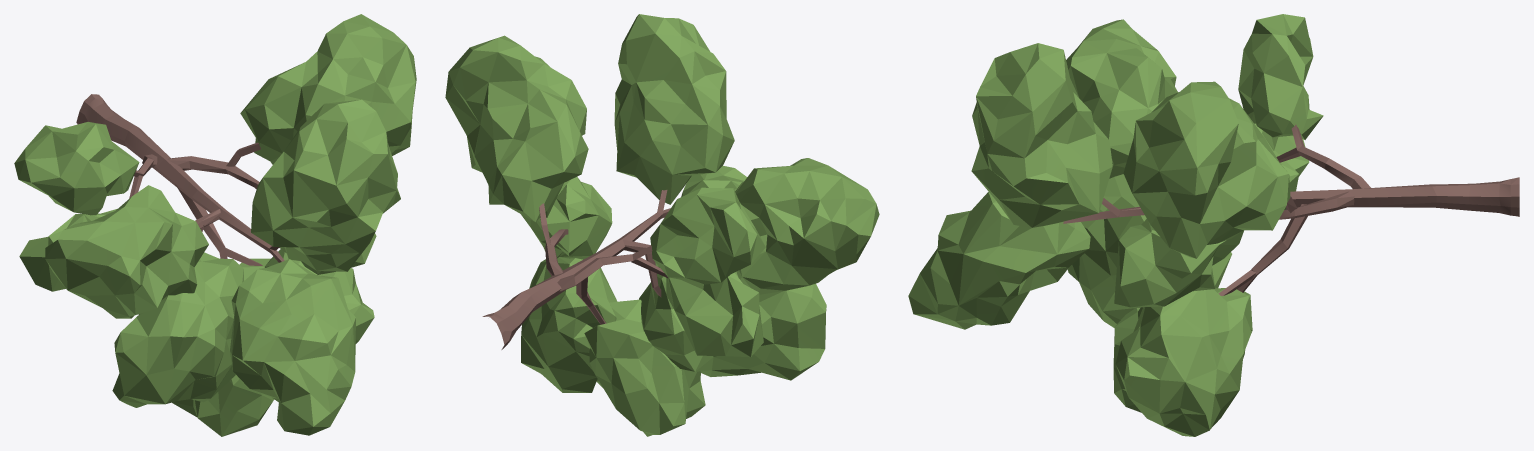
File: tree2.gltf
The picture shows the model from 3 angles, left to right: view 1: azimuth 30°, elevation 25°; view 2: azimuth 150°, elevation 25°; view 3: azimuth 270°, elevation 25°; orthographic projection. The views are drawn at different scales.
Visible parts, largest first — view 1: Tree_1_2_LOD0; view 2: Tree_1_2_LOD0; view 3: Tree_1_2_LOD0.
Part boxes in pixels (box(x1,y1,x2,y2)): Tree_1_2_LOD0: box(14, 14, 416, 436); Tree_1_2_LOD0: box(445, 14, 879, 436); Tree_1_2_LOD0: box(908, 14, 1519, 436).
Size of the model in its own units: 10.45 by 9.15 by 12.18.
